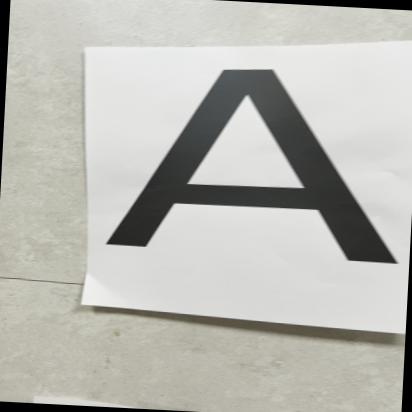seat: (96, 57, 412, 290)
